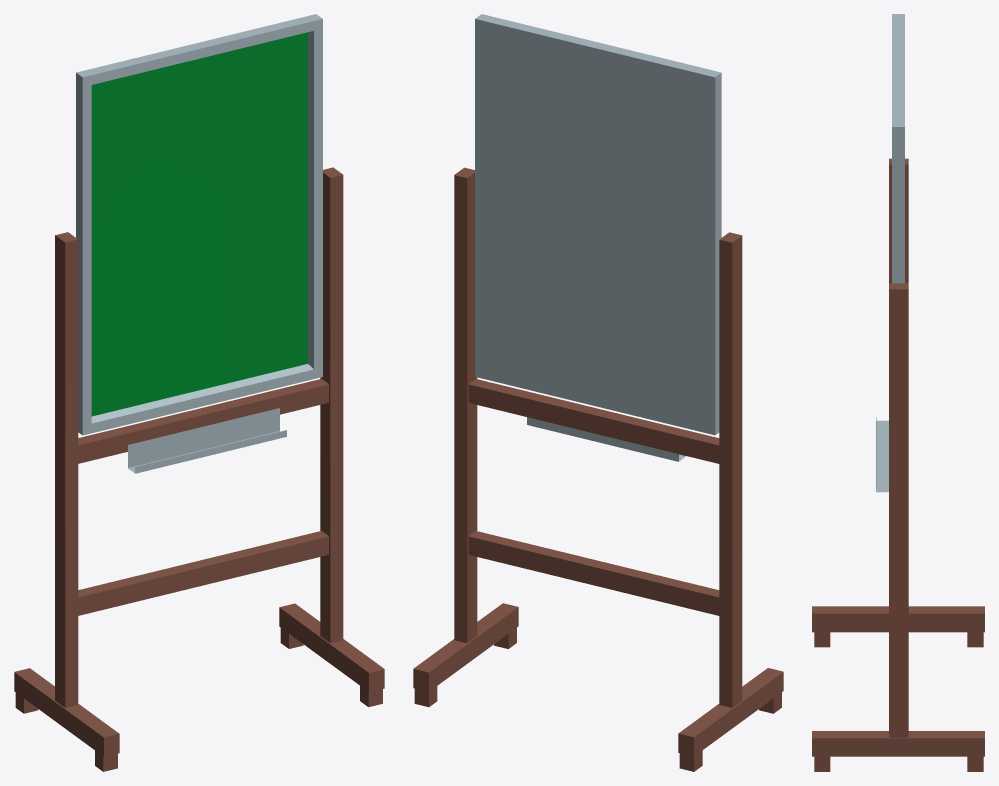
File: SM_toy_002.FBX
The picture shows the model from 3 angles, left to right: view 1: azimuth 30°, elevation 25°; view 2: azimuth 150°, elevation 25°; view 3: azimuth 270°, elevation 25°; orthographic projection. The views are drawn at different scales.
Parts seen in each view (by area): view 1: SM_toy_002; view 2: SM_toy_002; view 3: SM_toy_002.
Boxes of the visible parts, left/top/right/bottom form: SM_toy_002: left=14, top=14, right=384, bottom=771; SM_toy_002: left=413, top=14, right=783, bottom=771; SM_toy_002: left=812, top=14, right=984, bottom=771.
Size of the model in its own units: 80.08 by 44.33 by 180.
